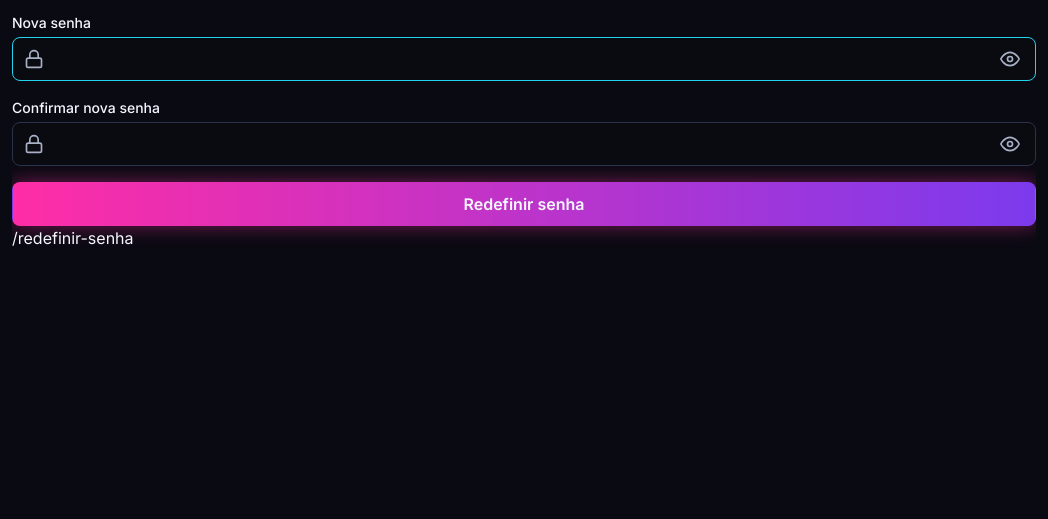
ResetPasswordForm (AUTH-003) › CA-015: valida a politica de senha e a confirmacao antes de enviar
This screenshot has width=1048, height=519.
Type "curta" into the password field labelled "Nova senha" at (524, 59), box [12, 37, 1036, 81]
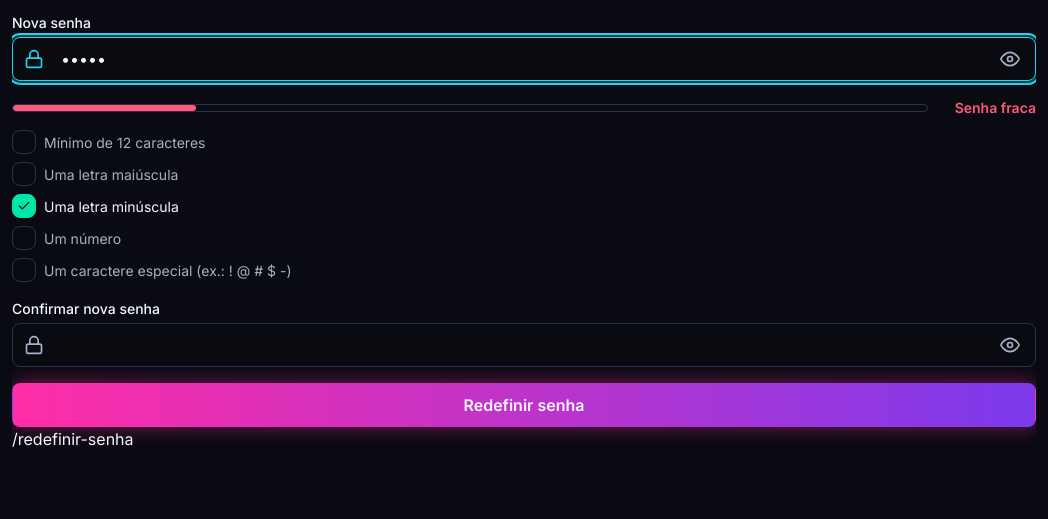
Type "outra" into the password field labelled "Confirmar nova senha" at (524, 345), box [12, 323, 1036, 367]
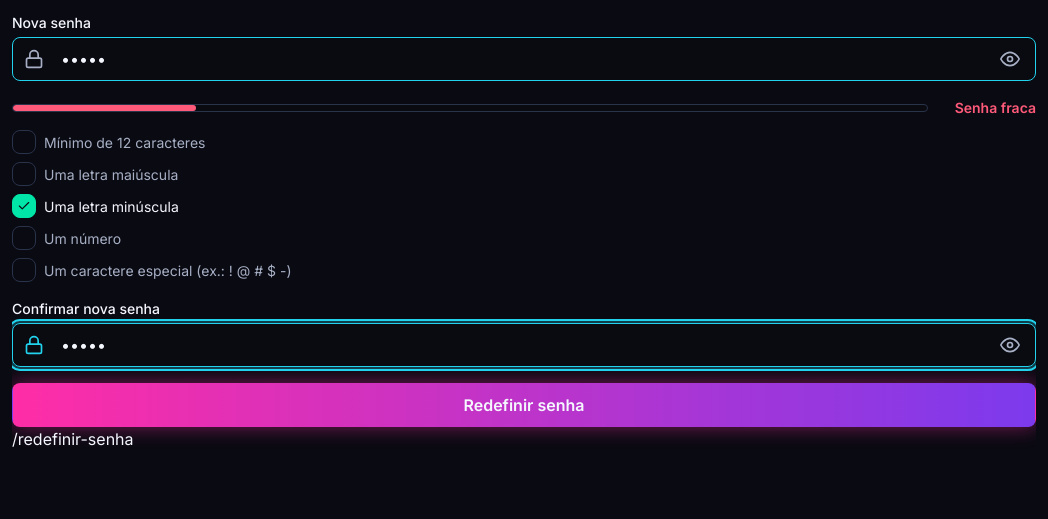
Click the button "Redefinir senha" at (524, 405), box [12, 383, 1036, 427]
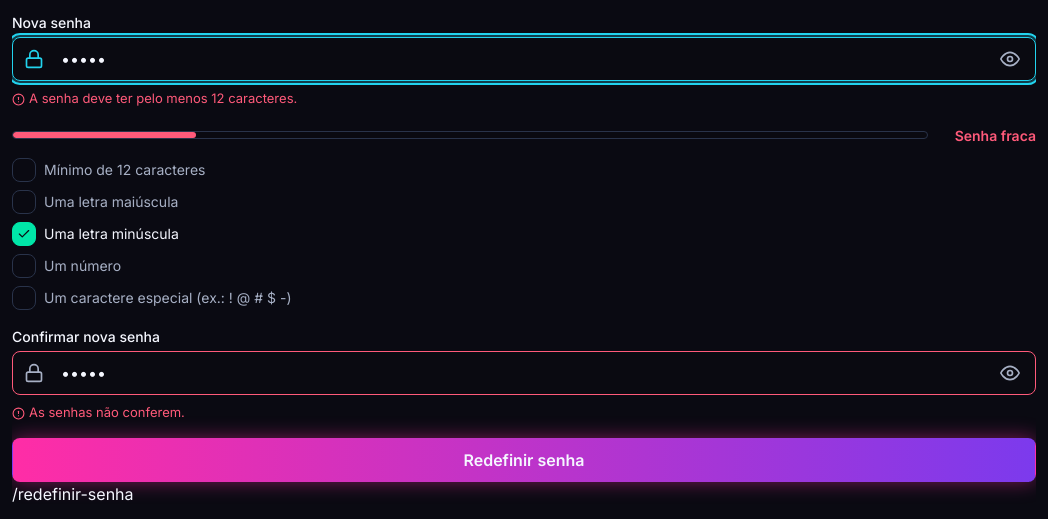
Check: the text "A senha deve ter pelo menos 12 caracteres." is shown, box [29, 89, 297, 108]
